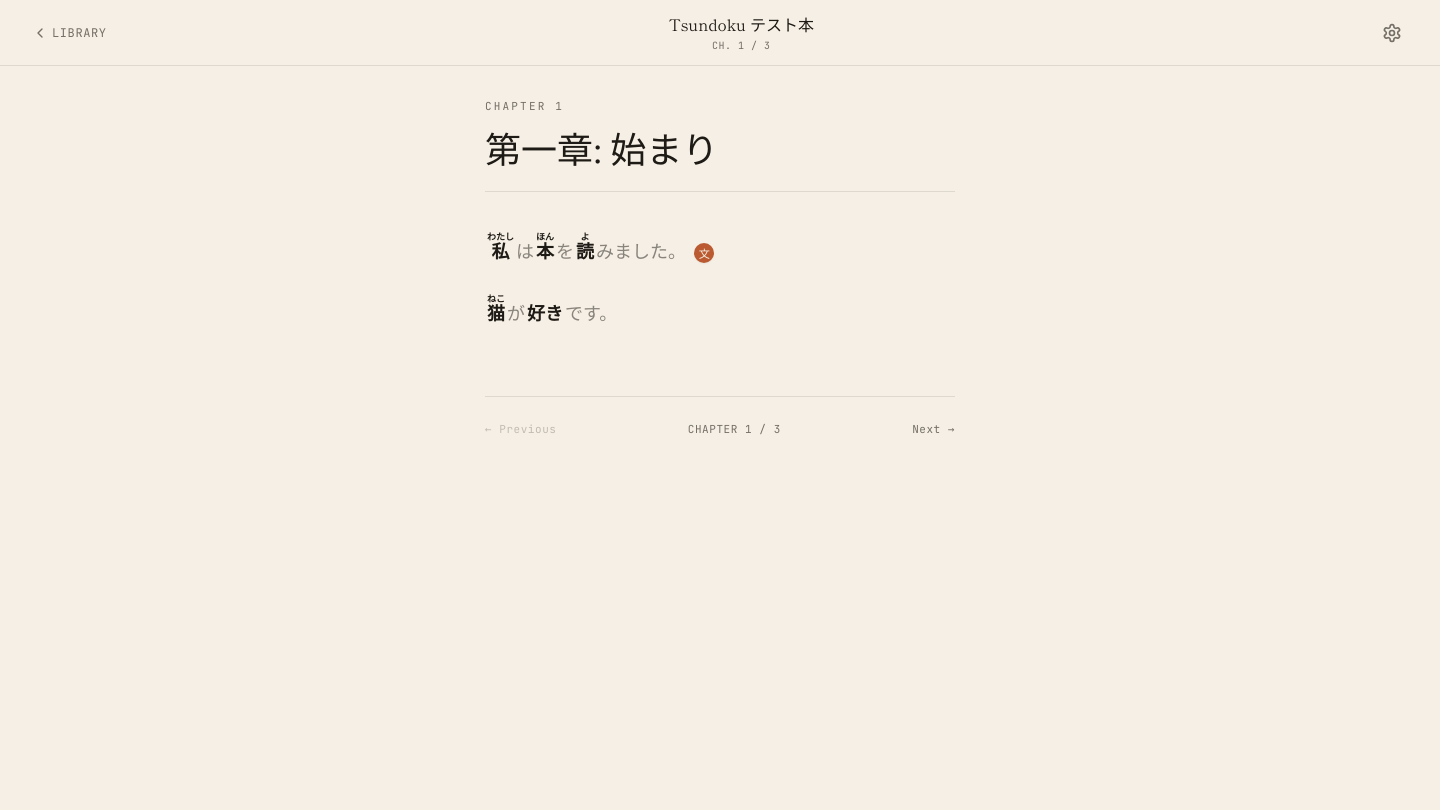
Test: Reader › opens a vocab popover with reading, meaning, JLPT, and POS when a vocab token is tapped
Click the button "私 わたし". click: {"x": 500, "y": 250}
box: [485,232,516,270]
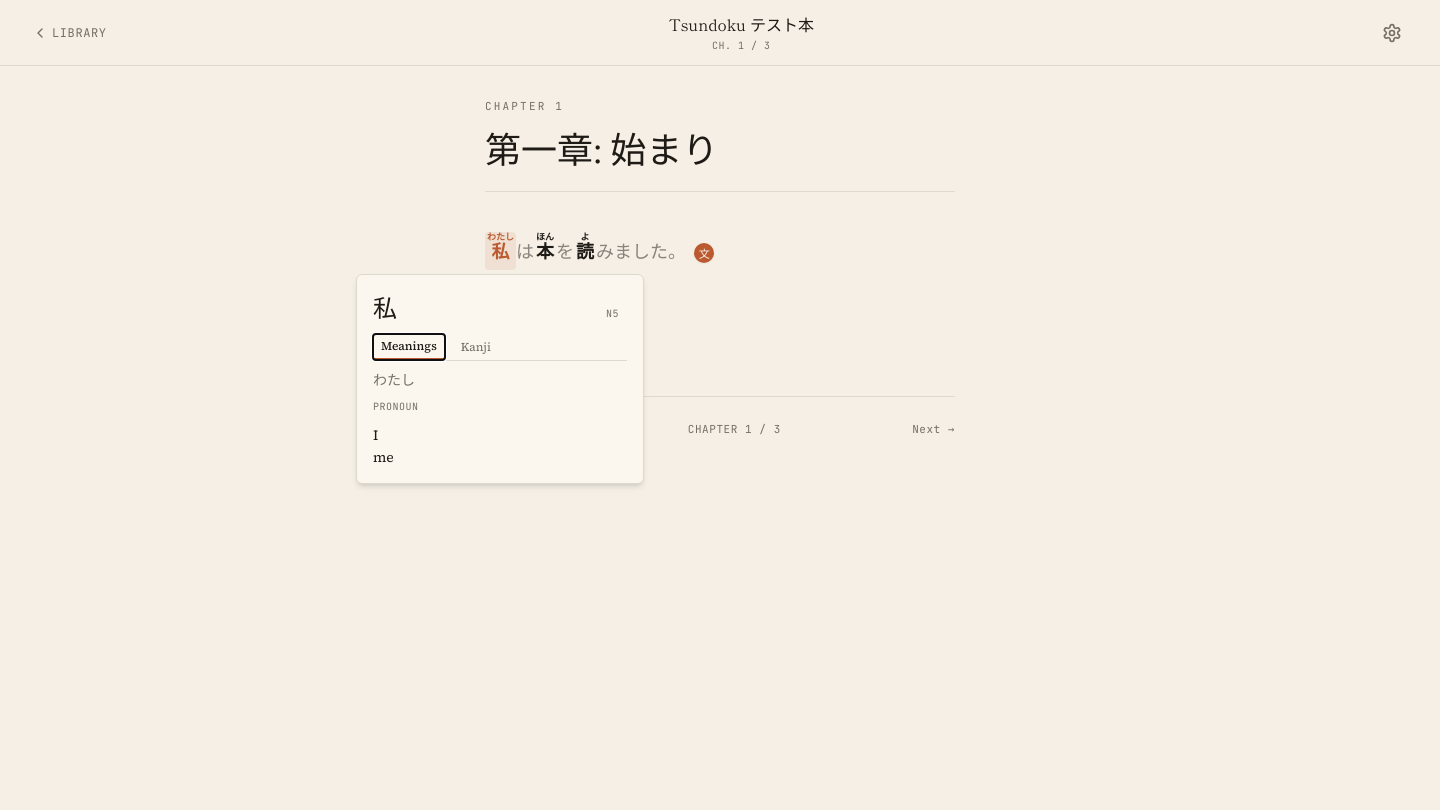
Check: the list item "I" is shown, box [373,425,378,445]
Check: the text "N5" is shown, box [598,302,627,326]
Check: the text "pronoun" is shown, box [373,400,418,413]
